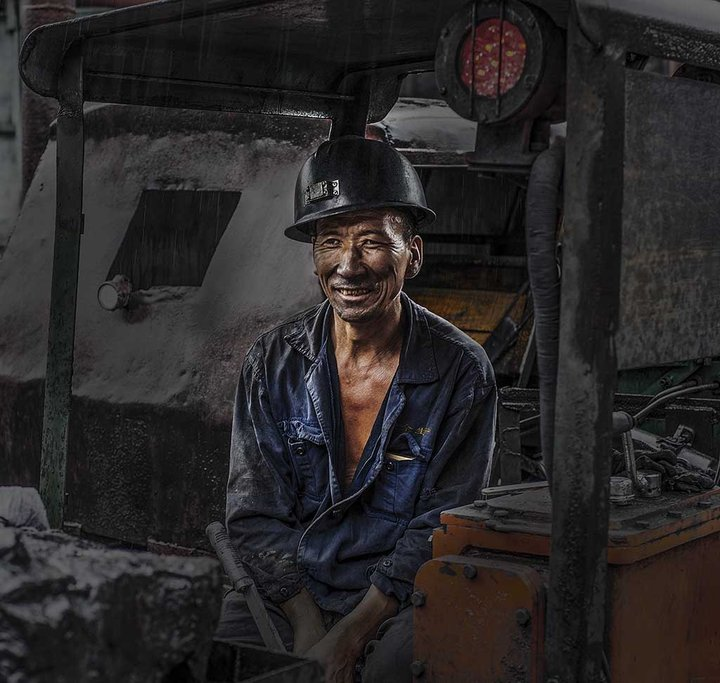helmet: (285, 138, 435, 312)
